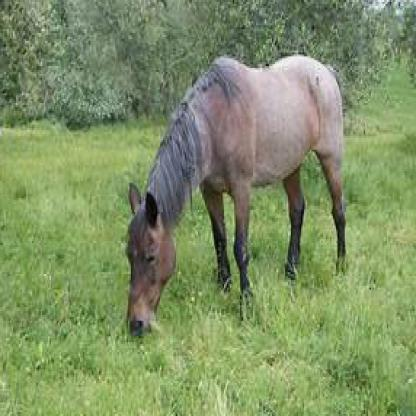horse: (125, 54, 346, 338)
